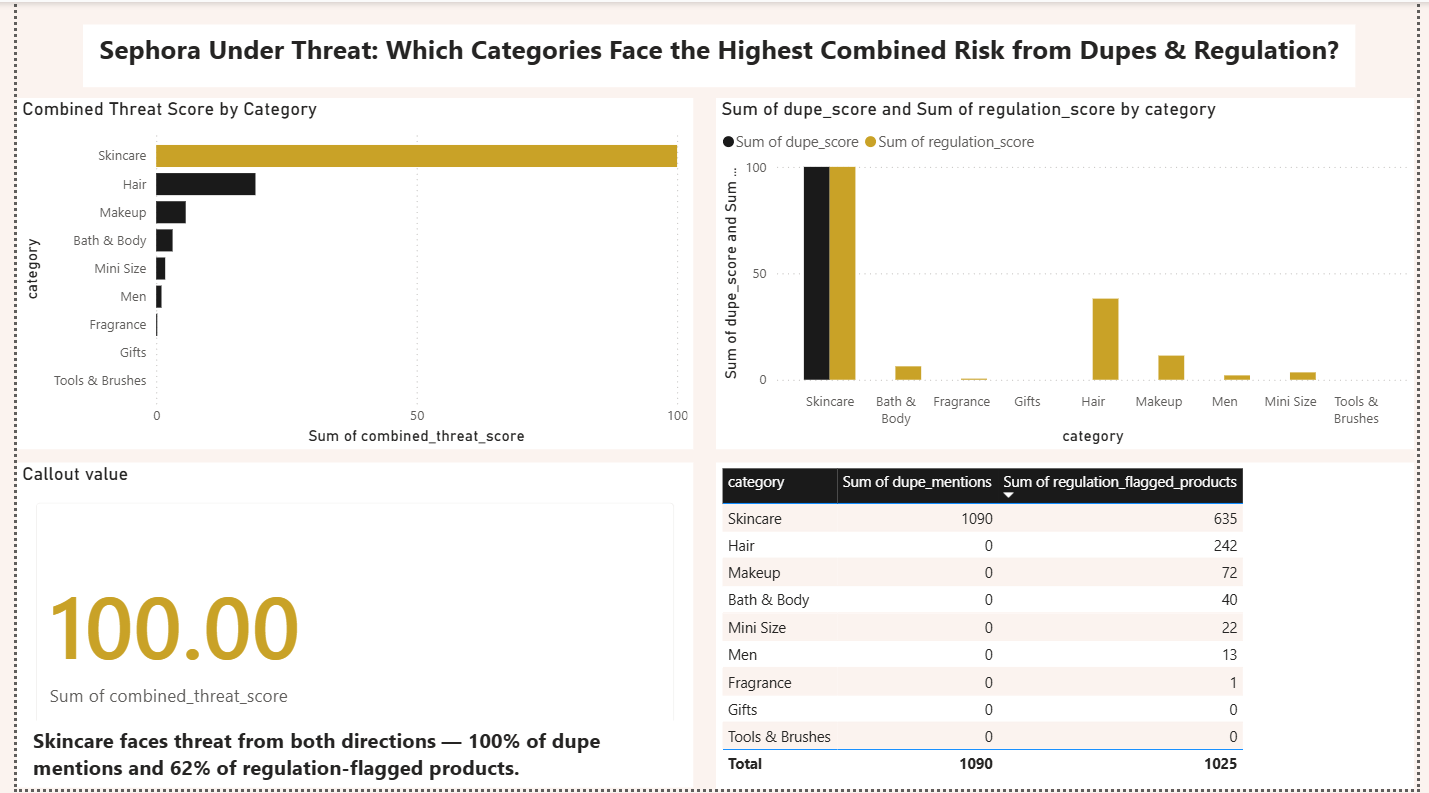

The page's visual inventory and layout, read from the dashboard file:
{"tool":"powerbi","page":{"name":"Page 1","canvas":[1280,720],"ordinal":0},"visuals":[{"type":"clusteredBarChart","title":"Combined Threat Score by Category","fields":{"Category":["Threat Summary.category"],"Y":["Sum(Threat Summary.combined_threat_score)"]},"box":[9.6,87.8,629.9,321.1],"z":0},{"type":"cardVisual","title":"Callout value","fields":{"Data":["Sum(Threat Summary.combined_threat_score)"]},"box":[10.6,416.4,629.9,302.8],"z":1000},{"type":"clusteredColumnChart","fields":{"Category":["Threat Summary.category"],"Y":["Sum(Threat Summary.dupe_score)","Sum(Threat Summary.regulation_score)"]},"box":[675.2,87.8,603.8,308.8],"z":2000},{"type":"tableEx","fields":{"Values":["Threat Summary.category","Sum(Threat Summary.dupe_mentions)","Sum(Threat Summary.regulation_flagged_products)"]},"box":[675.2,409,603.8,311.5],"z":3000},{"type":"actionButton","box":[0,0,100,40],"z":4000},{"type":"textbox","box":[71.4,20.6,1207.6,56.3],"z":5000},{"type":"textbox","box":[10,657.1,594.3,61.4],"z":6000}]}

Visuals, with their boxes in screenshot pixels (x1, y1, x2, y2), scaled from the page's 1280x720 canvas onto the 1429x793 screenshot:
"Combined Threat Score by Category" clusteredBarChart: bbox=[11, 97, 714, 450]
"Callout value" cardVisual: bbox=[12, 459, 715, 792]
clusteredColumnChart - Threat Summary.category x Sum(Threat Summary.dupe_score): bbox=[754, 97, 1428, 437]
tableEx - Threat Summary.category x Sum(Threat Summary.dupe_mentions): bbox=[754, 450, 1428, 792]
actionButton: bbox=[0, 0, 112, 44]
textbox: bbox=[80, 23, 1428, 85]
textbox: bbox=[11, 724, 675, 791]
